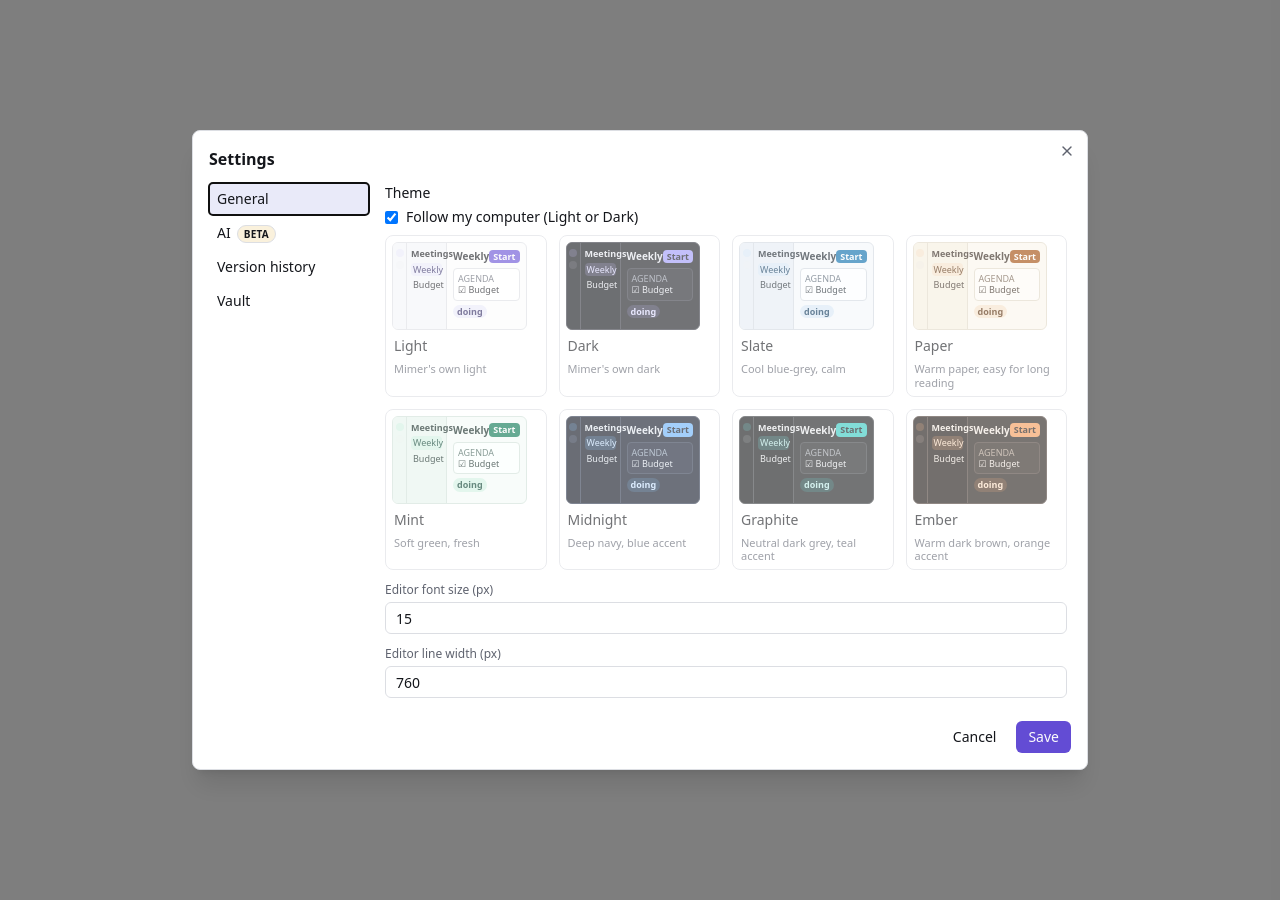
Settings → AI: which AI Mimer uses › has About me and my notes and a language for the AI's answers, and no base instruction
Step 1. Click the button "AI Beta" → point(289, 233), box [209,217,369,249]
(page scrolled)
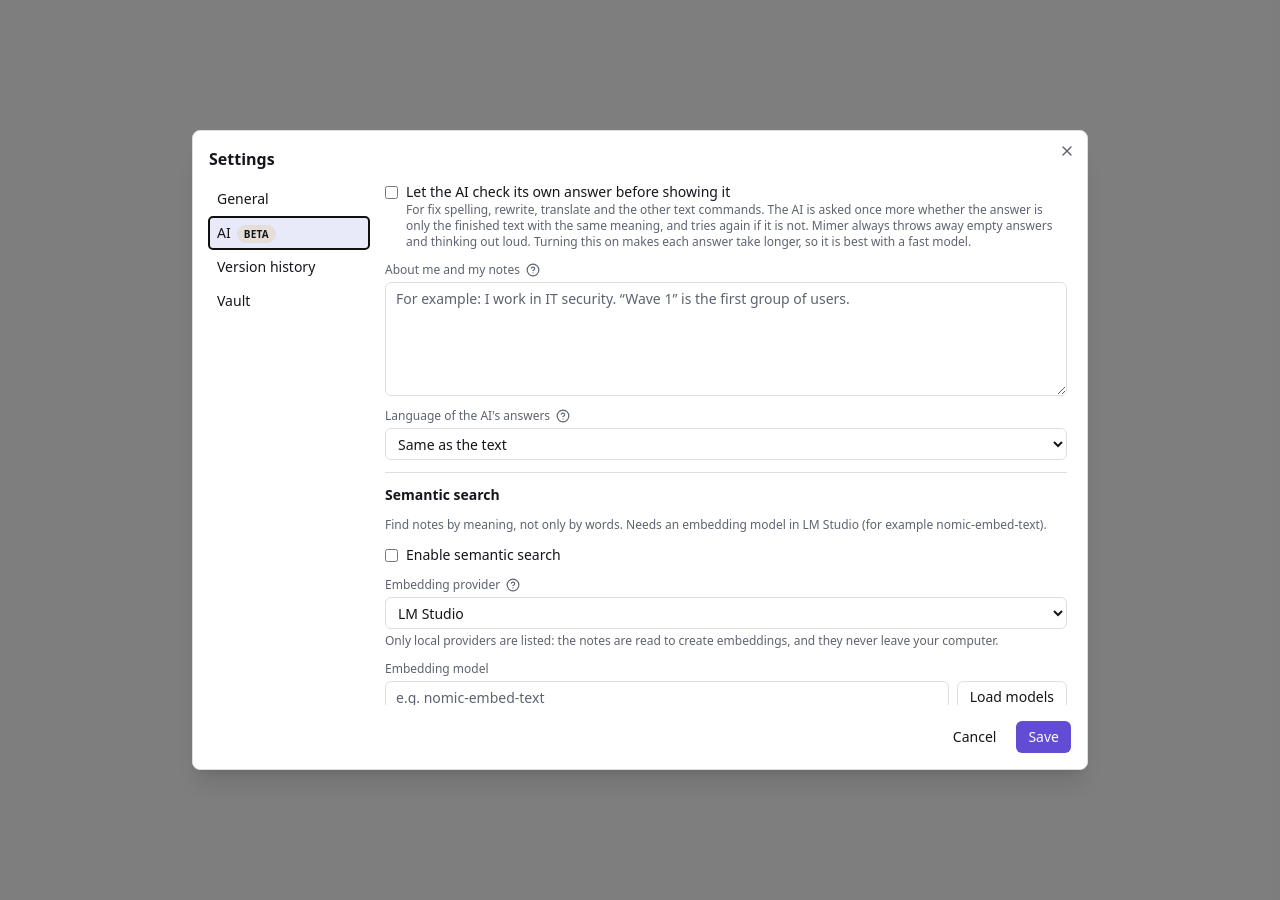
Check: the text box labelled "About me and my notes" is shown, box [385,282,1067,396]
Check: the dropdown labelled "Language of the AI's answers" shows "Same as the text", box [385,428,1067,460]
